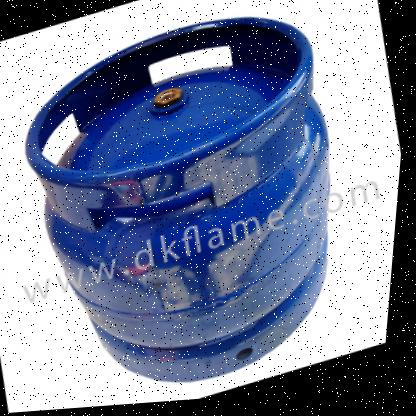gas-tank: (0, 0, 405, 415)
